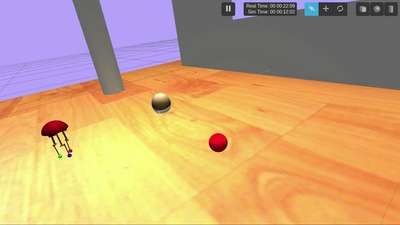mira_robot: (152, 93, 171, 113)
